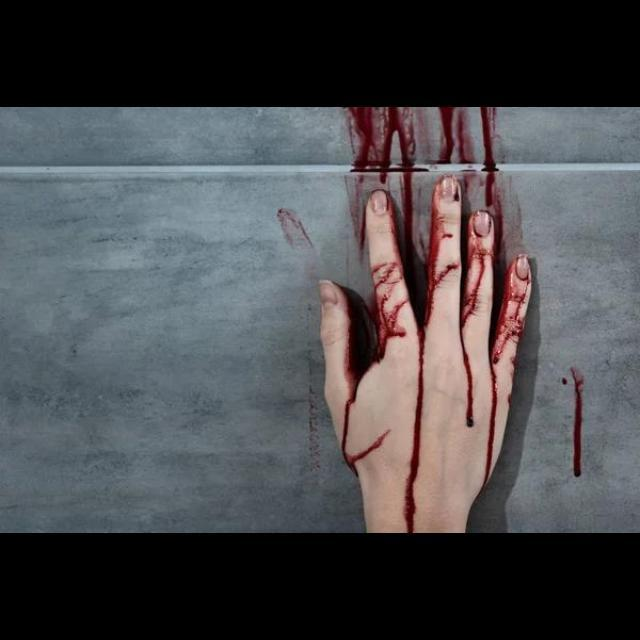blood: (338, 107, 532, 478), (405, 356, 425, 534), (441, 107, 476, 161), (277, 208, 315, 249), (573, 367, 586, 478), (465, 346, 476, 429)
